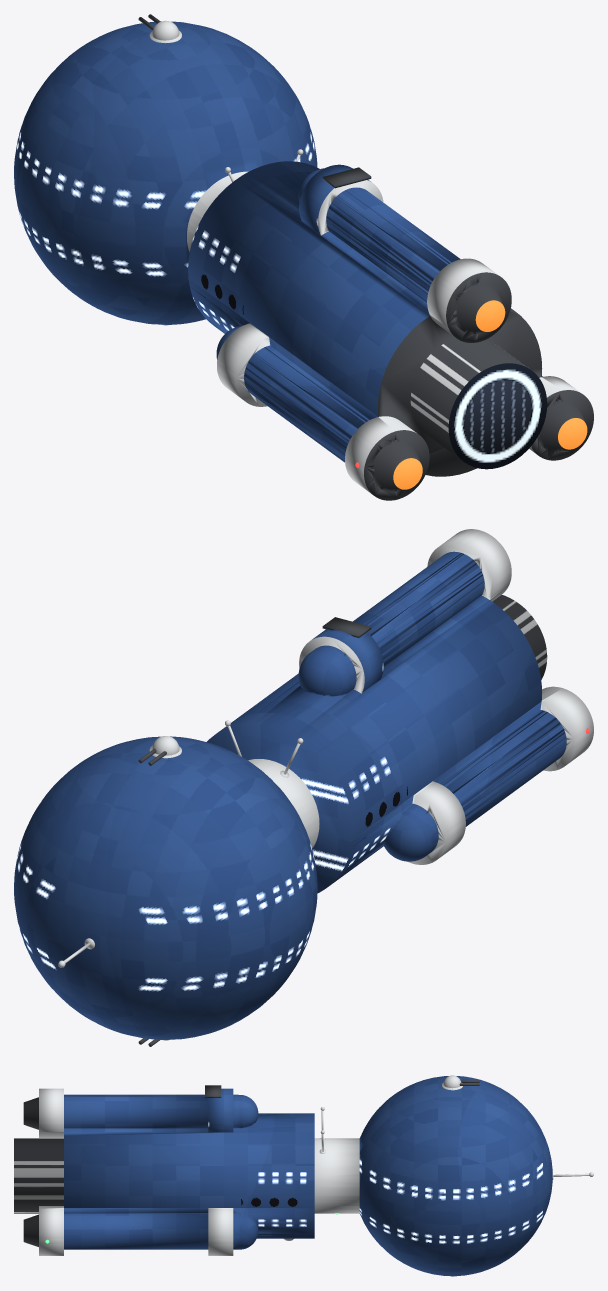
Rendered from earth_heavy_cruiser.glb.
3 views of the same model, one above another, from view 1: azimuth 30°, elevation 25°; view 2: azimuth 150°, elevation 25°; view 3: azimuth 270°, elevation 25° (orthographic). The views are drawn at different scales.
Visible parts, largest first — view 1: EarthHeavyCruiser; view 2: EarthHeavyCruiser; view 3: EarthHeavyCruiser.
Boxes of the visible parts, x1,y1,x2,y2 form: EarthHeavyCruiser: (14,14,593,500); EarthHeavyCruiser: (14,529,593,1046); EarthHeavyCruiser: (14,1075,593,1276).
Size of the model in its own units: 15.96 by 17.58 by 46.28.
1 material, 1 textured.
